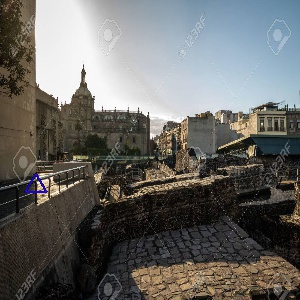triangle: (25, 171, 48, 195)
